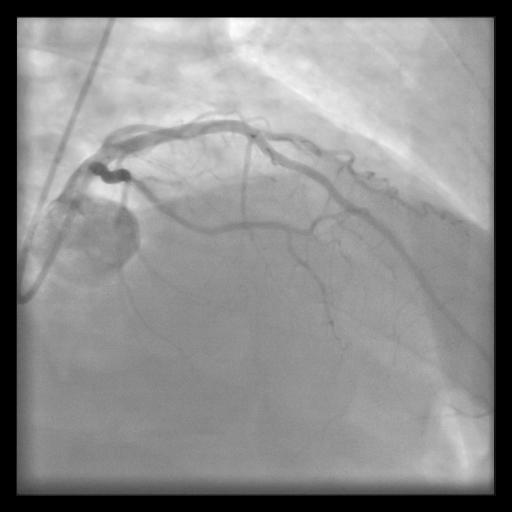Stenosis: (120, 168, 145, 195)
